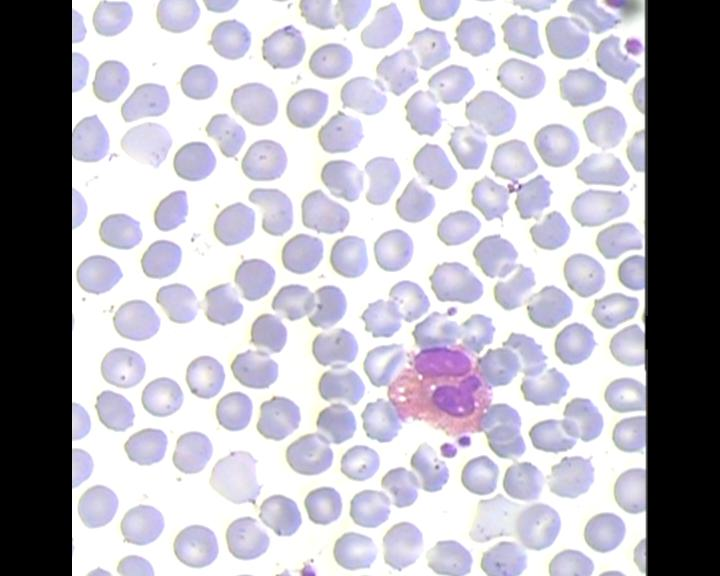eosi: (383, 344, 491, 438)
